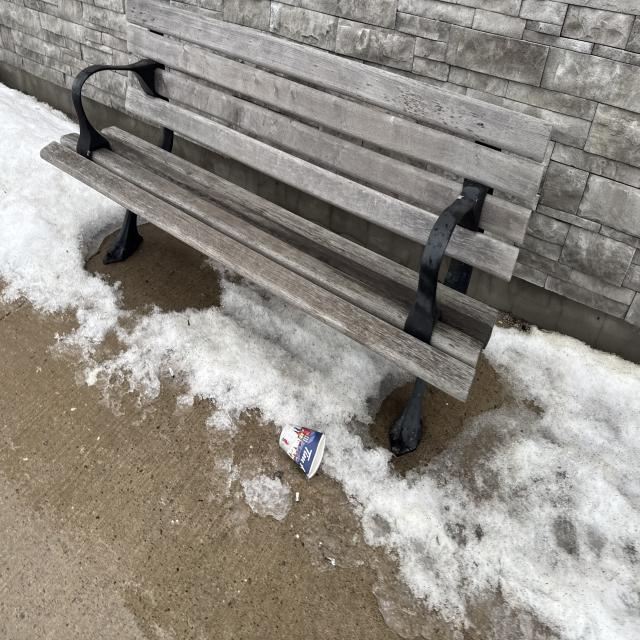Bench: (45, 9, 503, 448)
